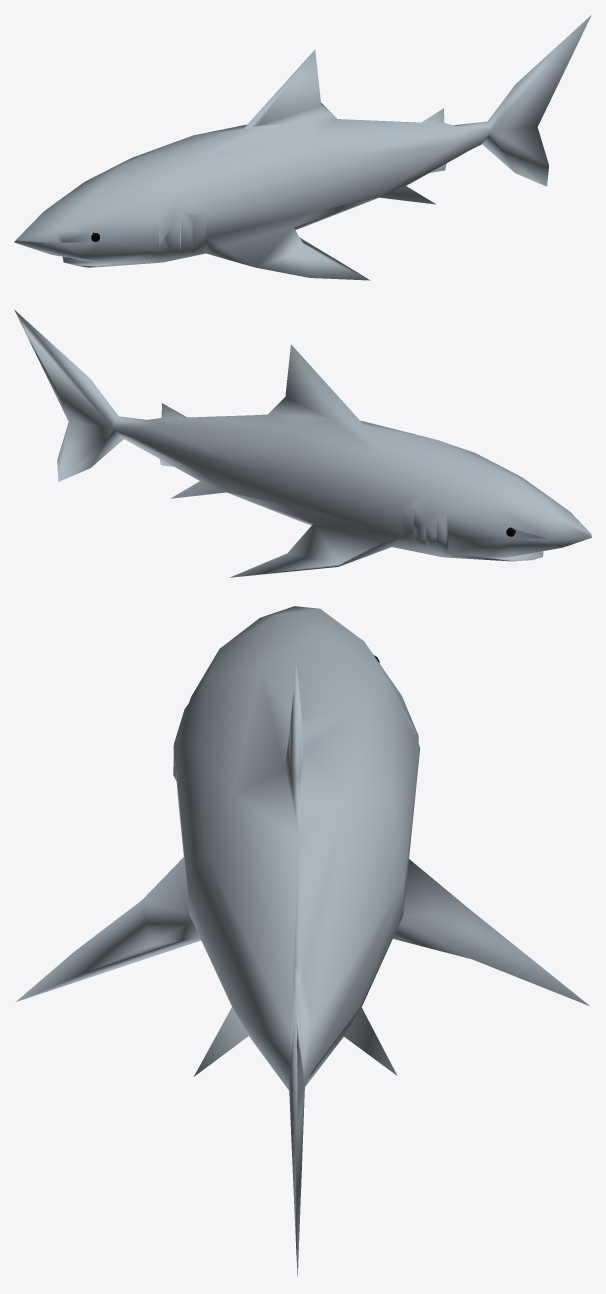
Rendered from shark.obj.
The picture shows the model from 3 angles, top to bottom: view 1: azimuth 30°, elevation 25°; view 2: azimuth 150°, elevation 25°; view 3: azimuth 270°, elevation 25°; orthographic projection. The views are drawn at different scales.
Parts seen in each view (by area): view 1: Cylinder2_cut5_New_Material; view 2: Cylinder2_cut5_New_Material; view 3: Cylinder2_cut5_New_Material.
Part boxes in pixels (left/top/right/bottom): Cylinder2_cut5_New_Material: left=14, top=15, right=591, bottom=280; Cylinder2_cut5_New_Material: left=14, top=309, right=591, bottom=577; Cylinder2_cut5_New_Material: left=16, top=606, right=589, bottom=1276.
Bounding box in the file's own units: 4.18 × 1.34 × 1.8.
